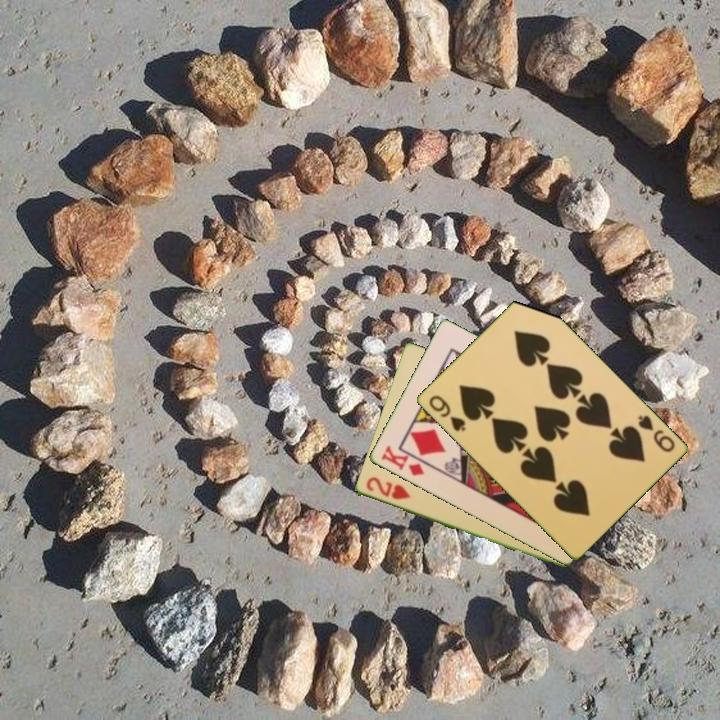2h: (362, 473, 413, 503)
9s: (425, 391, 468, 434), (634, 412, 677, 455)
Kd: (377, 442, 427, 479)
